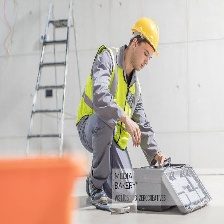helmet: (130, 15, 161, 61)
person: (83, 17, 162, 179)
vest: (87, 45, 144, 147)
